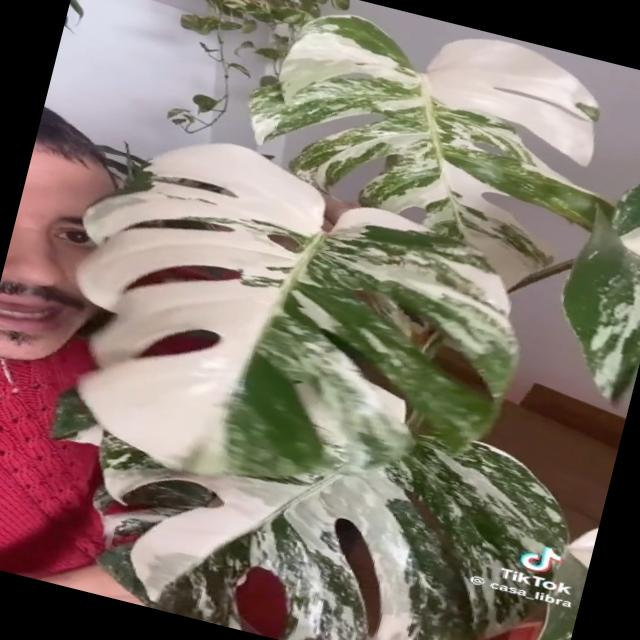lisc_variegata: (72, 144, 522, 476), (50, 393, 572, 640), (242, 15, 613, 295), (87, 479, 223, 614), (562, 186, 640, 412)
roslina_variegata: (55, 11, 640, 640)
